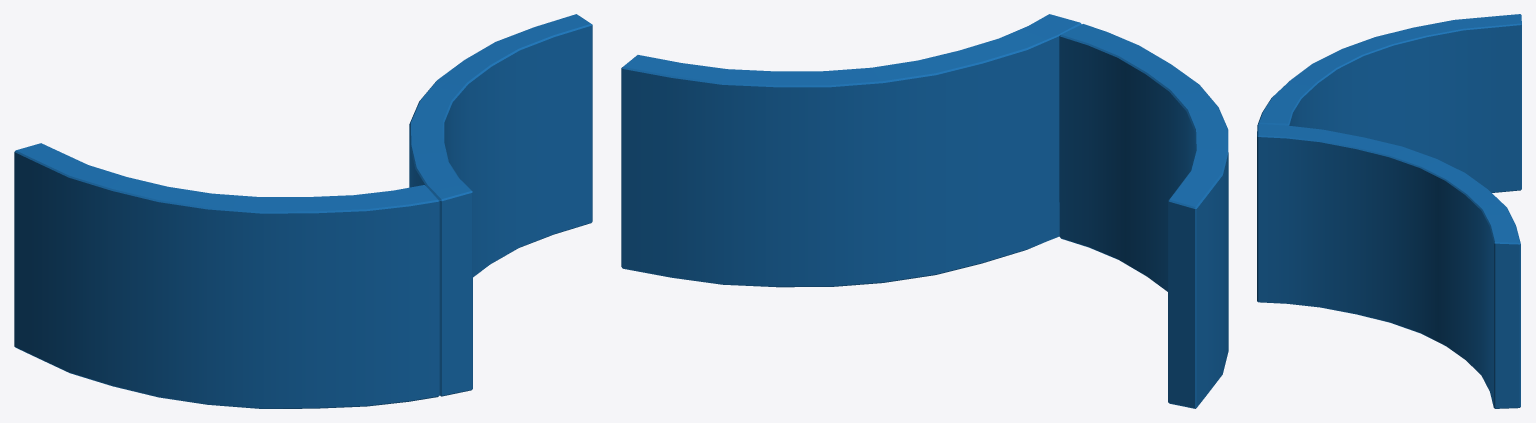
The model's file is Exit_Turn_Metal_02.fbx.
3 renders of one model, left to right at view 1: azimuth 30°, elevation 25°; view 2: azimuth 150°, elevation 25°; view 3: azimuth 270°, elevation 25°, orthographic. The views are drawn at different scales.
Parts seen in each view (by area): view 1: Exit_Turn_Metal_02; view 2: Exit_Turn_Metal_02; view 3: Exit_Turn_Metal_02.
Part boxes in pixels (left/top/right/bottom): Exit_Turn_Metal_02: left=14, top=14, right=592, bottom=408; Exit_Turn_Metal_02: left=621, top=14, right=1228, bottom=408; Exit_Turn_Metal_02: left=1257, top=14, right=1521, bottom=408.
Size of the model in its own units: 8.66 by 2.93 by 4.21.
